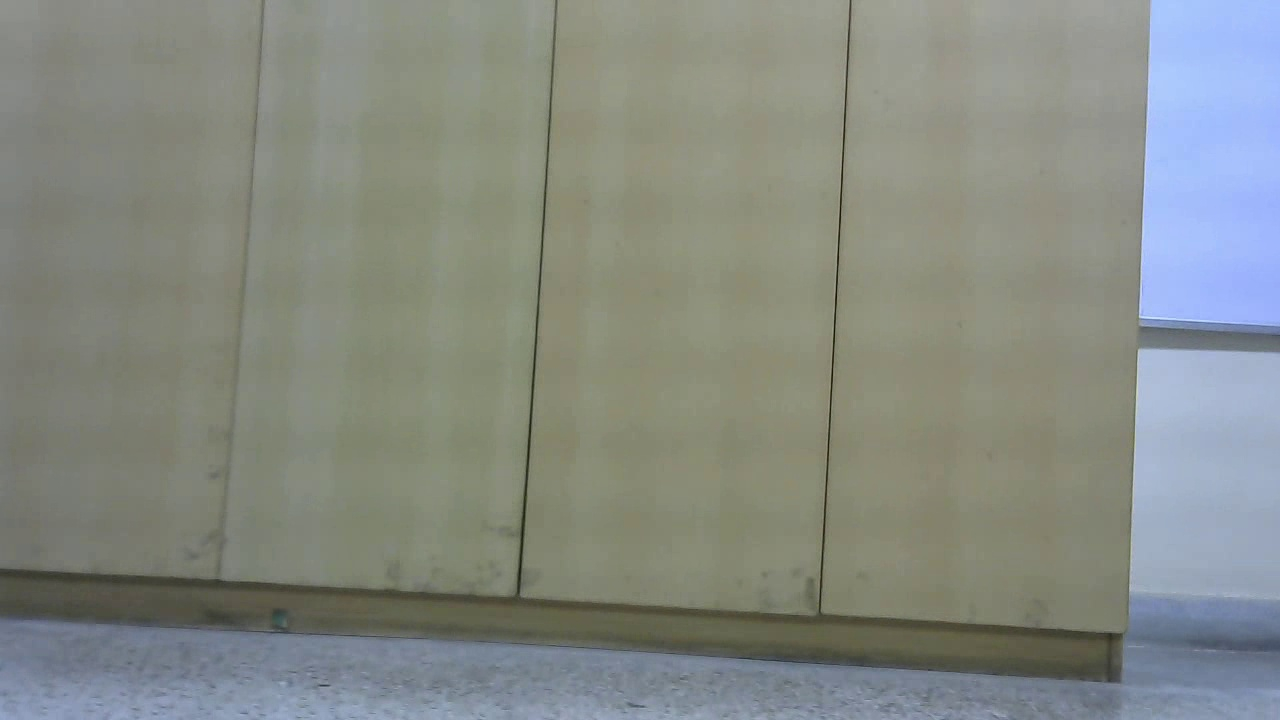chair: (1, 34, 219, 569)
